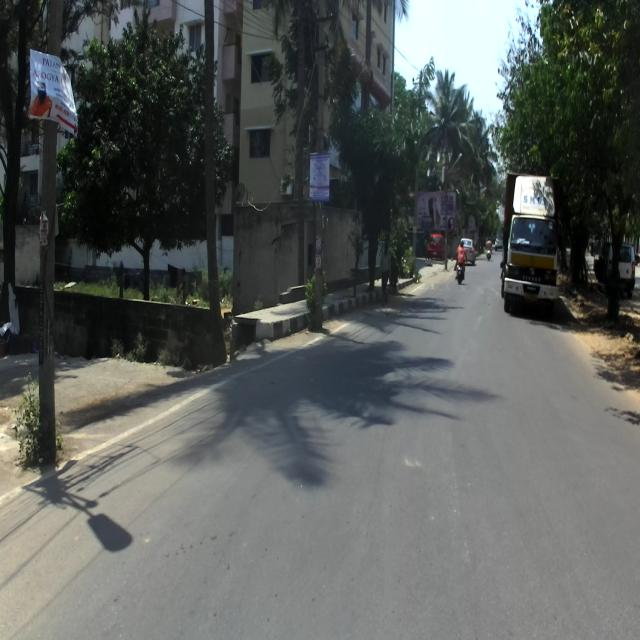electric pole ahead at: (29, 0, 68, 473)
truck ahead at: (502, 167, 560, 315)
